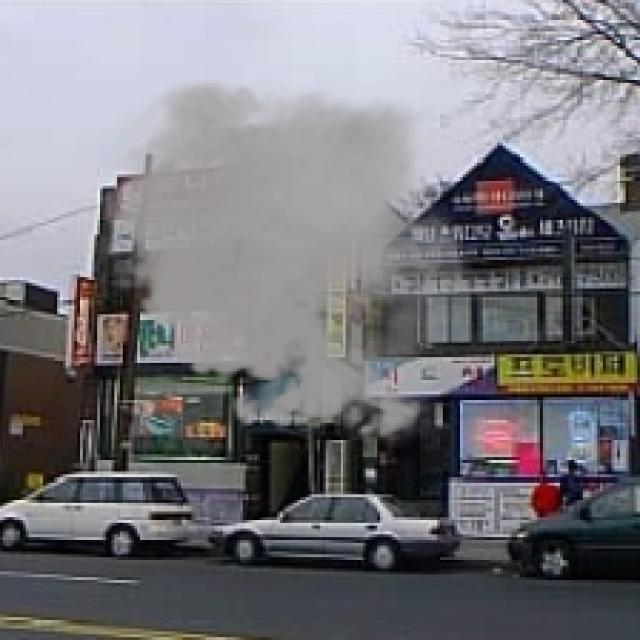Smoke: (88, 66, 486, 452)
